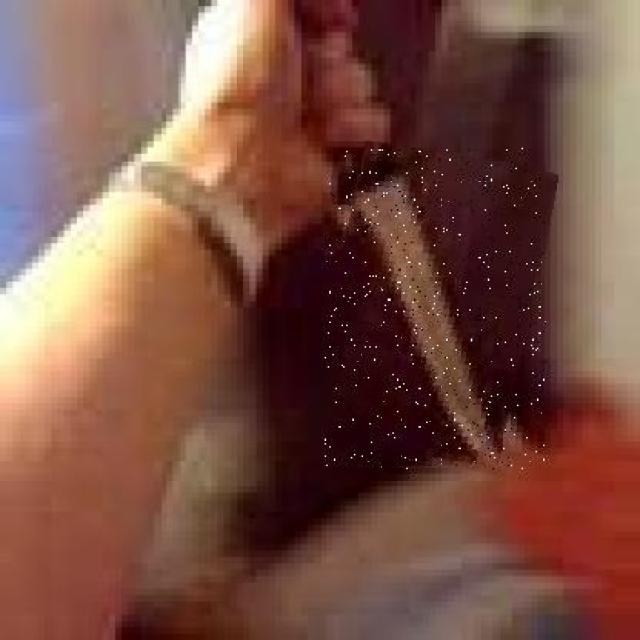knife: (325, 148, 546, 469)
